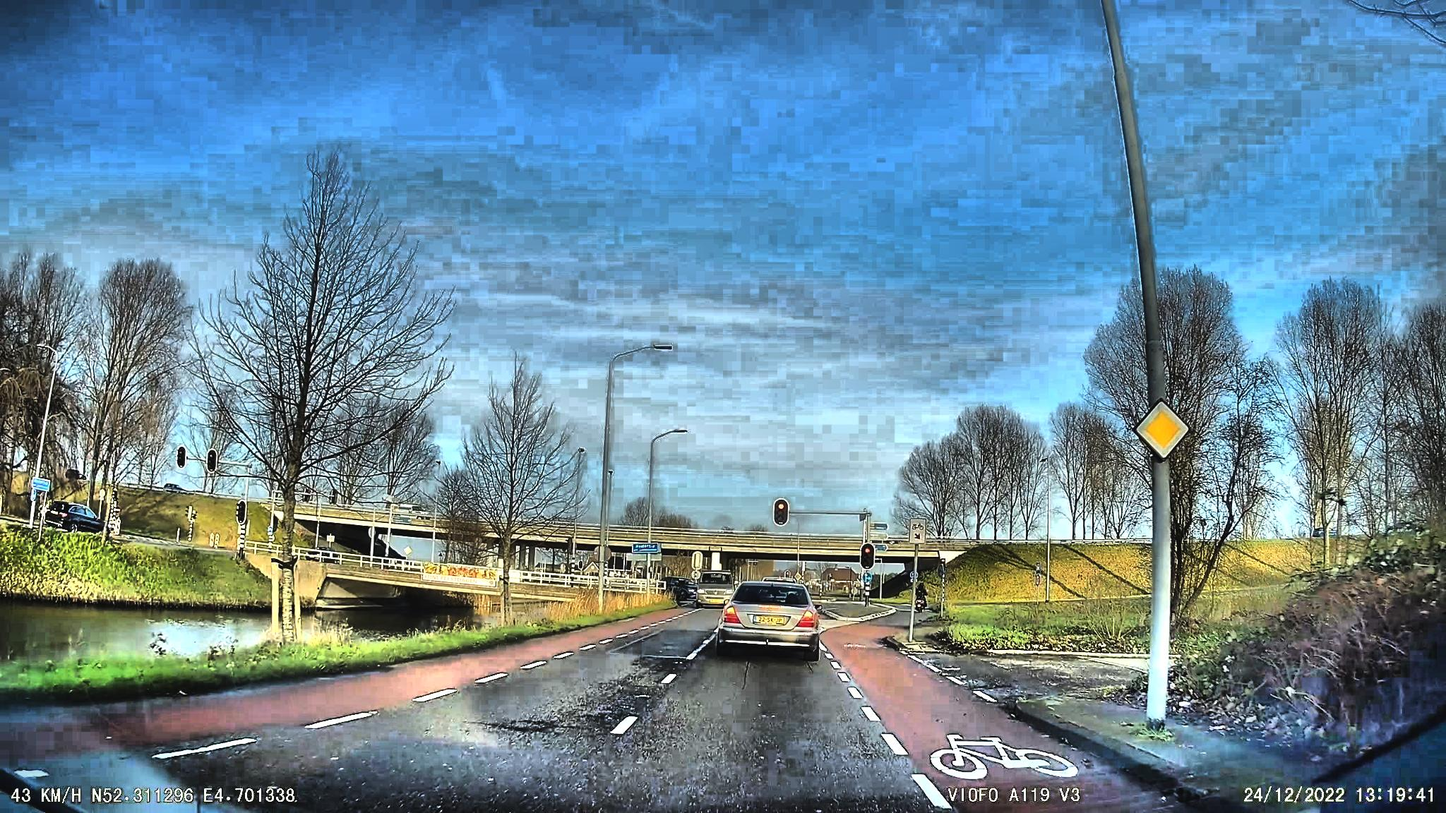Roads: (0, 610, 1137, 813)
